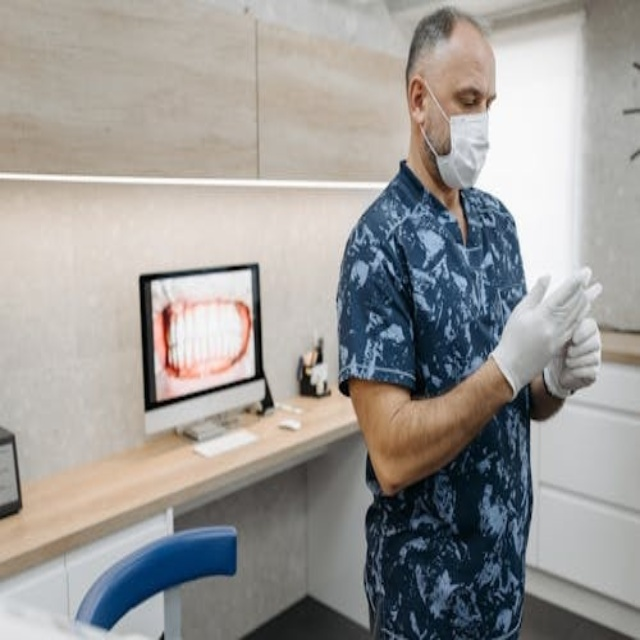Guantes: (488, 255, 607, 408), (540, 316, 601, 403)
Mascara: (422, 81, 489, 191)
Sin_gafas: (443, 73, 499, 119)
